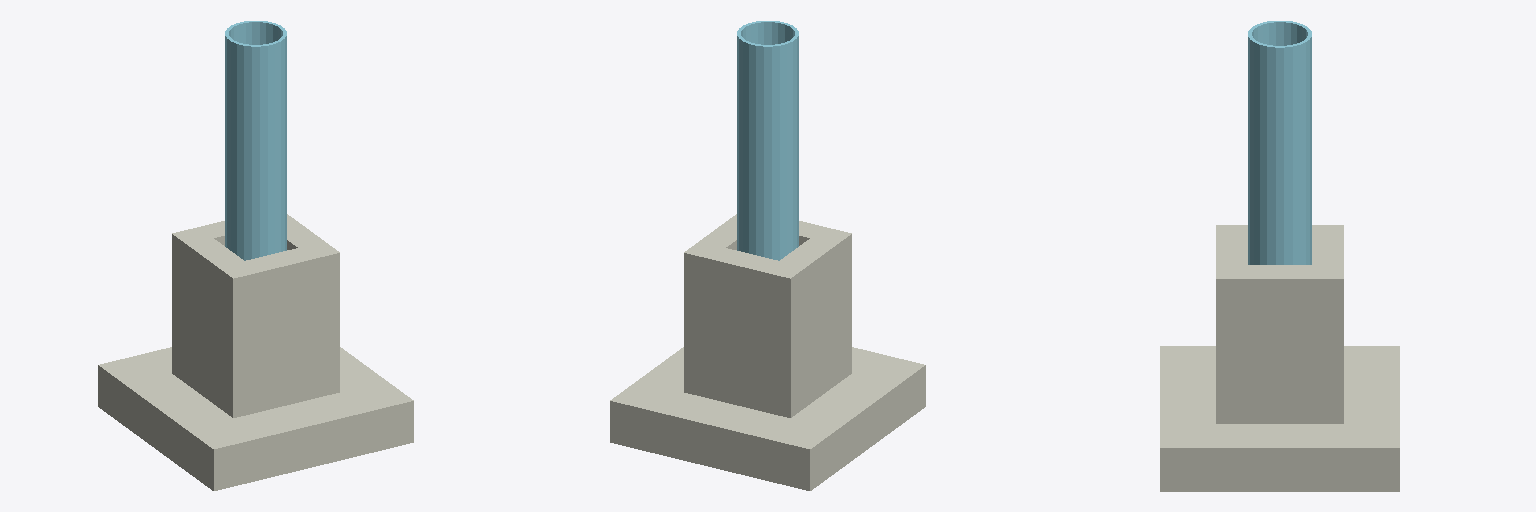
robot.urdf — test_tube:
<?xml version="1.0"?>
<!-- Generated by make_tube.py; edit the parameters there. -->
<robot name="test_tube">
  <material name="stand"><color rgba="0.85 0.85 0.80 1"/></material>
  <material name="glass"><color rgba="0.62 0.85 0.91 1"/></material>
  <link name="tube">
    <inertial>
      <origin xyz="0 0 0.03"/>
      <mass value="1.0"/>
      <inertia ixx="0.001" ixy="0" ixz="0" iyy="0.001" iyz="0" izz="0.001"/>
    </inertial>
    <visual name="plate"><origin xyz="0 0 0.006" rpy="0 0 0"/><geometry><box size="0.06 0.06 0.012"/></geometry><material name="stand"/></visual>
    <collision name="plate"><origin xyz="0 0 0.006" rpy="0 0 0"/><geometry><box size="0.06 0.06 0.012"/></geometry></collision>
    <visual name="wall_0"><origin xyz="0.0075 0 0.062" rpy="0 0 0"/><geometry><box size="0.001 0.00220644 0.1"/></geometry><material name="glass"/></visual>
    <collision name="wall_0"><origin xyz="0.0075 0 0.062" rpy="0 0 0"/><geometry><box size="0.001 0.00220644 0.1"/></geometry></collision>
    <visual name="wall_1"><origin xyz="0.00724444 0.00194114 0.062" rpy="0 0 0.261799"/><geometry><box size="0.001 0.00220644 0.1"/></geometry><material name="glass"/></visual>
    <collision name="wall_1"><origin xyz="0.00724444 0.00194114 0.062" rpy="0 0 0.261799"/><geometry><box size="0.001 0.00220644 0.1"/></geometry></collision>
    <visual name="wall_2"><origin xyz="0.00649519 0.00375 0.062" rpy="0 0 0.523599"/><geometry><box size="0.001 0.00220644 0.1"/></geometry><material name="glass"/></visual>
    <collision name="wall_2"><origin xyz="0.00649519 0.00375 0.062" rpy="0 0 0.523599"/><geometry><box size="0.001 0.00220644 0.1"/></geometry></collision>
    <visual name="wall_3"><origin xyz="0.0053033 0.0053033 0.062" rpy="0 0 0.785398"/><geometry><box size="0.001 0.00220644 0.1"/></geometry><material name="glass"/></visual>
    <collision name="wall_3"><origin xyz="0.0053033 0.0053033 0.062" rpy="0 0 0.785398"/><geometry><box size="0.001 0.00220644 0.1"/></geometry></collision>
    <visual name="wall_4"><origin xyz="0.00375 0.00649519 0.062" rpy="0 0 1.0472"/><geometry><box size="0.001 0.00220644 0.1"/></geometry><material name="glass"/></visual>
    <collision name="wall_4"><origin xyz="0.00375 0.00649519 0.062" rpy="0 0 1.0472"/><geometry><box size="0.001 0.00220644 0.1"/></geometry></collision>
    <visual name="wall_5"><origin xyz="0.00194114 0.00724444 0.062" rpy="0 0 1.309"/><geometry><box size="0.001 0.00220644 0.1"/></geometry><material name="glass"/></visual>
    <collision name="wall_5"><origin xyz="0.00194114 0.00724444 0.062" rpy="0 0 1.309"/><geometry><box size="0.001 0.00220644 0.1"/></geometry></collision>
    <visual name="wall_6"><origin xyz="4.59243e-19 0.0075 0.062" rpy="0 0 1.5708"/><geometry><box size="0.001 0.00220644 0.1"/></geometry><material name="glass"/></visual>
    <collision name="wall_6"><origin xyz="4.59243e-19 0.0075 0.062" rpy="0 0 1.5708"/><geometry><box size="0.001 0.00220644 0.1"/></geometry></collision>
    <visual name="wall_7"><origin xyz="-0.00194114 0.00724444 0.062" rpy="0 0 1.8326"/><geometry><box size="0.001 0.00220644 0.1"/></geometry><material name="glass"/></visual>
    <collision name="wall_7"><origin xyz="-0.00194114 0.00724444 0.062" rpy="0 0 1.8326"/><geometry><box size="0.001 0.00220644 0.1"/></geometry></collision>
    <visual name="wall_8"><origin xyz="-0.00375 0.00649519 0.062" rpy="0 0 2.0944"/><geometry><box size="0.001 0.00220644 0.1"/></geometry><material name="glass"/></visual>
    <collision name="wall_8"><origin xyz="-0.00375 0.00649519 0.062" rpy="0 0 2.0944"/><geometry><box size="0.001 0.00220644 0.1"/></geometry></collision>
    <visual name="wall_9"><origin xyz="-0.0053033 0.0053033 0.062" rpy="0 0 2.35619"/><geometry><box size="0.001 0.00220644 0.1"/></geometry><material name="glass"/></visual>
    <collision name="wall_9"><origin xyz="-0.0053033 0.0053033 0.062" rpy="0 0 2.35619"/><geometry><box size="0.001 0.00220644 0.1"/></geometry></collision>
    <visual name="wall_10"><origin xyz="-0.00649519 0.00375 0.062" rpy="0 0 2.61799"/><geometry><box size="0.001 0.00220644 0.1"/></geometry><material name="glass"/></visual>
    <collision name="wall_10"><origin xyz="-0.00649519 0.00375 0.062" rpy="0 0 2.61799"/><geometry><box size="0.001 0.00220644 0.1"/></geometry></collision>
    <visual name="wall_11"><origin xyz="-0.00724444 0.00194114 0.062" rpy="0 0 2.87979"/><geometry><box size="0.001 0.00220644 0.1"/></geometry><material name="glass"/></visual>
    <collision name="wall_11"><origin xyz="-0.00724444 0.00194114 0.062" rpy="0 0 2.87979"/><geometry><box size="0.001 0.00220644 0.1"/></geometry></collision>
    <visual name="wall_12"><origin xyz="-0.0075 9.18485e-19 0.062" rpy="0 0 3.14159"/><geometry><box size="0.001 0.00220644 0.1"/></geometry><material name="glass"/></visual>
    <collision name="wall_12"><origin xyz="-0.0075 9.18485e-19 0.062" rpy="0 0 3.14159"/><geometry><box size="0.001 0.00220644 0.1"/></geometry></collision>
    <visual name="wall_13"><origin xyz="-0.00724444 -0.00194114 0.062" rpy="0 0 3.40339"/><geometry><box size="0.001 0.00220644 0.1"/></geometry><material name="glass"/></visual>
    <collision name="wall_13"><origin xyz="-0.00724444 -0.00194114 0.062" rpy="0 0 3.40339"/><geometry><box size="0.001 0.00220644 0.1"/></geometry></collision>
    <visual name="wall_14"><origin xyz="-0.00649519 -0.00375 0.062" rpy="0 0 3.66519"/><geometry><box size="0.001 0.00220644 0.1"/></geometry><material name="glass"/></visual>
    <collision name="wall_14"><origin xyz="-0.00649519 -0.00375 0.062" rpy="0 0 3.66519"/><geometry><box size="0.001 0.00220644 0.1"/></geometry></collision>
    <visual name="wall_15"><origin xyz="-0.0053033 -0.0053033 0.062" rpy="0 0 3.92699"/><geometry><box size="0.001 0.00220644 0.1"/></geometry><material name="glass"/></visual>
    <collision name="wall_15"><origin xyz="-0.0053033 -0.0053033 0.062" rpy="0 0 3.92699"/><geometry><box size="0.001 0.00220644 0.1"/></geometry></collision>
    <visual name="wall_16"><origin xyz="-0.00375 -0.00649519 0.062" rpy="0 0 4.18879"/><geometry><box size="0.001 0.00220644 0.1"/></geometry><material name="glass"/></visual>
    <collision name="wall_16"><origin xyz="-0.00375 -0.00649519 0.062" rpy="0 0 4.18879"/><geometry><box size="0.001 0.00220644 0.1"/></geometry></collision>
    <visual name="wall_17"><origin xyz="-0.00194114 -0.00724444 0.062" rpy="0 0 4.45059"/><geometry><box size="0.001 0.00220644 0.1"/></geometry><material name="glass"/></visual>
    <collision name="wall_17"><origin xyz="-0.00194114 -0.00724444 0.062" rpy="0 0 4.45059"/><geometry><box size="0.001 0.00220644 0.1"/></geometry></collision>
    <visual name="wall_18"><origin xyz="-1.37773e-18 -0.0075 0.062" rpy="0 0 4.71239"/><geometry><box size="0.001 0.00220644 0.1"/></geometry><material name="glass"/></visual>
    <collision name="wall_18"><origin xyz="-1.37773e-18 -0.0075 0.062" rpy="0 0 4.71239"/><geometry><box size="0.001 0.00220644 0.1"/></geometry></collision>
    <visual name="wall_19"><origin xyz="0.00194114 -0.00724444 0.062" rpy="0 0 4.97419"/><geometry><box size="0.001 0.00220644 0.1"/></geometry><material name="glass"/></visual>
    <collision name="wall_19"><origin xyz="0.00194114 -0.00724444 0.062" rpy="0 0 4.97419"/><geometry><box size="0.001 0.00220644 0.1"/></geometry></collision>
    <visual name="wall_20"><origin xyz="0.00375 -0.00649519 0.062" rpy="0 0 5.23599"/><geometry><box size="0.001 0.00220644 0.1"/></geometry><material name="glass"/></visual>
    <collision name="wall_20"><origin xyz="0.00375 -0.00649519 0.062" rpy="0 0 5.23599"/><geometry><box size="0.001 0.00220644 0.1"/></geometry></collision>
    <visual name="wall_21"><origin xyz="0.0053033 -0.0053033 0.062" rpy="0 0 5.49779"/><geometry><box size="0.001 0.00220644 0.1"/></geometry><material name="glass"/></visual>
    <collision name="wall_21"><origin xyz="0.0053033 -0.0053033 0.062" rpy="0 0 5.49779"/><geometry><box size="0.001 0.00220644 0.1"/></geometry></collision>
    <visual name="wall_22"><origin xyz="0.00649519 -0.00375 0.062" rpy="0 0 5.75959"/><geometry><box size="0.001 0.00220644 0.1"/></geometry><material name="glass"/></visual>
    <collision name="wall_22"><origin xyz="0.00649519 -0.00375 0.062" rpy="0 0 5.75959"/><geometry><box size="0.001 0.00220644 0.1"/></geometry></collision>
    <visual name="wall_23"><origin xyz="0.00724444 -0.00194114 0.062" rpy="0 0 6.02139"/><geometry><box size="0.001 0.00220644 0.1"/></geometry><material name="glass"/></visual>
    <collision name="wall_23"><origin xyz="0.00724444 -0.00194114 0.062" rpy="0 0 6.02139"/><geometry><box size="0.001 0.00220644 0.1"/></geometry></collision>
    <visual name="collar_px"><origin xyz="0.012 0 0.032" rpy="0 0 0"/><geometry><box size="0.008 0.032 0.04"/></geometry><material name="stand"/></visual>
    <collision name="collar_px"><origin xyz="0.012 0 0.032" rpy="0 0 0"/><geometry><box size="0.008 0.032 0.04"/></geometry></collision>
    <visual name="collar_nx"><origin xyz="-0.012 0 0.032" rpy="0 0 0"/><geometry><box size="0.008 0.032 0.04"/></geometry><material name="stand"/></visual>
    <collision name="collar_nx"><origin xyz="-0.012 0 0.032" rpy="0 0 0"/><geometry><box size="0.008 0.032 0.04"/></geometry></collision>
    <visual name="collar_py"><origin xyz="0 0.012 0.032" rpy="0 0 0"/><geometry><box size="0.016 0.008 0.04"/></geometry><material name="stand"/></visual>
    <collision name="collar_py"><origin xyz="0 0.012 0.032" rpy="0 0 0"/><geometry><box size="0.016 0.008 0.04"/></geometry></collision>
    <visual name="collar_ny"><origin xyz="0 -0.012 0.032" rpy="0 0 0"/><geometry><box size="0.016 0.008 0.04"/></geometry><material name="stand"/></visual>
    <collision name="collar_ny"><origin xyz="0 -0.012 0.032" rpy="0 0 0"/><geometry><box size="0.016 0.008 0.04"/></geometry></collision>
    <visual name="floor"><origin xyz="0 0 0.0115" rpy="0 0 0"/><geometry><box size="0.014 0.014 0.001"/></geometry><material name="glass"/></visual>
    <collision name="floor"><origin xyz="0 0 0.0115" rpy="0 0 0"/><geometry><box size="0.014 0.014 0.001"/></geometry></collision>
  </link>
</robot>

--- Facts derived from the render (not from the file) ---
The picture shows the robot from 3 angles, left to right: view 1: azimuth 30°, elevation 25°; view 2: azimuth 150°, elevation 25°; view 3: azimuth 270°, elevation 25°; orthographic projection.
Robot: test_tube — 1 links, 0 joints (none); root link tube; default pose: all joints at 0.
Links seen in each view (by area): view 1: tube; view 2: tube; view 3: tube.
Link boxes in pixels (x1,y1,x2,y2): tube: (98, 21, 413, 490); tube: (610, 21, 925, 490); tube: (1160, 21, 1399, 491).
Size in the robot's own frame: 0.06 by 0.06 by 0.112 metres.
Geometry: primitives only (box / cylinder / sphere), no mesh files.
